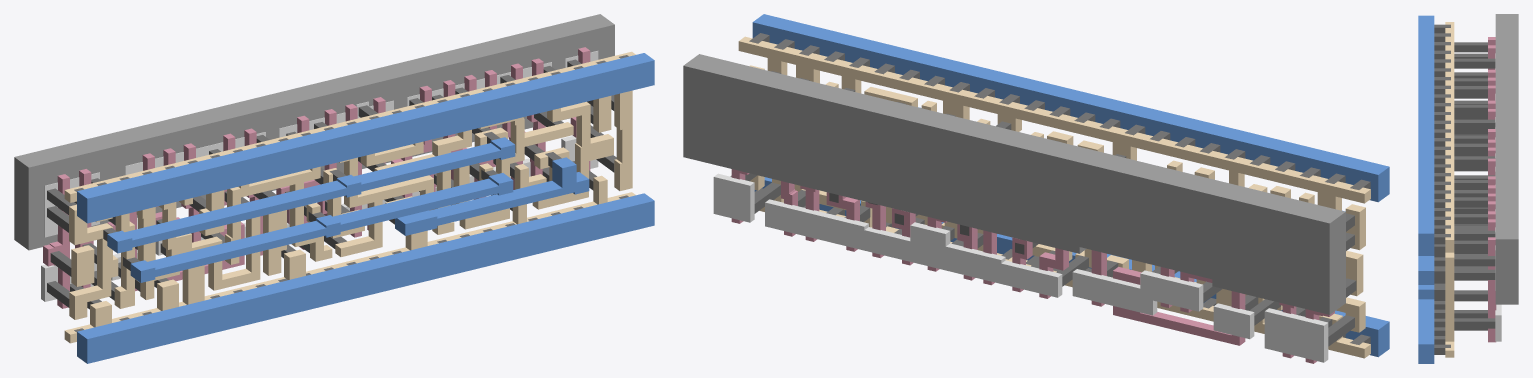
File: sky130_fd_sc_hd__sdfrtn_1.gds.gltf
3 renders of one model, left to right at view 1: azimuth 30°, elevation 25°; view 2: azimuth 150°, elevation 25°; view 3: azimuth 270°, elevation 25°, orthographic. The views are drawn at different scales.
Parts seen in each view (by area): view 1: sky130_fd_sc_hd__sdfrtn_1_met1, sky130_fd_sc_hd__sdfrtn_1_li1, sky130_fd_sc_hd__sdfrtn_1_nwell, sky130_fd_sc_hd__sdfrtn_1_poly, sky130_fd_sc_hd__sdfrtn_1_licon, sky130_fd_sc_hd__sdfrtn_1_diff, sky130_fd_sc_hd__sdfrtn_1_mcon; view 2: sky130_fd_sc_hd__sdfrtn_1_nwell, sky130_fd_sc_hd__sdfrtn_1_li1, sky130_fd_sc_hd__sdfrtn_1_diff, sky130_fd_sc_hd__sdfrtn_1_met1, sky130_fd_sc_hd__sdfrtn_1_poly, sky130_fd_sc_hd__sdfrtn_1_mcon, sky130_fd_sc_hd__sdfrtn_1_licon; view 3: sky130_fd_sc_hd__sdfrtn_1_licon, sky130_fd_sc_hd__sdfrtn_1_nwell, sky130_fd_sc_hd__sdfrtn_1_met1, sky130_fd_sc_hd__sdfrtn_1_mcon, sky130_fd_sc_hd__sdfrtn_1_li1, sky130_fd_sc_hd__sdfrtn_1_poly, sky130_fd_sc_hd__sdfrtn_1_diff.
Boxes of the visible parts, bbox=[...] form: sky130_fd_sc_hd__sdfrtn_1_met1: bbox=[77, 53, 654, 363]; sky130_fd_sc_hd__sdfrtn_1_li1: bbox=[64, 51, 635, 343]; sky130_fd_sc_hd__sdfrtn_1_nwell: bbox=[14, 14, 614, 250]; sky130_fd_sc_hd__sdfrtn_1_poly: bbox=[43, 47, 590, 308]; sky130_fd_sc_hd__sdfrtn_1_licon: bbox=[47, 59, 616, 309]; sky130_fd_sc_hd__sdfrtn_1_diff: bbox=[41, 51, 598, 301]; sky130_fd_sc_hd__sdfrtn_1_mcon: bbox=[74, 55, 628, 332]; sky130_fd_sc_hd__sdfrtn_1_nwell: bbox=[683, 54, 1345, 314]; sky130_fd_sc_hd__sdfrtn_1_li1: bbox=[738, 36, 1370, 358]; sky130_fd_sc_hd__sdfrtn_1_diff: bbox=[713, 173, 1328, 362]; sky130_fd_sc_hd__sdfrtn_1_met1: bbox=[752, 14, 1389, 357]; sky130_fd_sc_hd__sdfrtn_1_poly: bbox=[731, 169, 1334, 363]; sky130_fd_sc_hd__sdfrtn_1_mcon: bbox=[749, 33, 1370, 344]; sky130_fd_sc_hd__sdfrtn_1_licon: bbox=[730, 71, 1356, 346]; sky130_fd_sc_hd__sdfrtn_1_licon: bbox=[1454, 42, 1495, 330]; sky130_fd_sc_hd__sdfrtn_1_nwell: bbox=[1495, 14, 1518, 304]; sky130_fd_sc_hd__sdfrtn_1_met1: bbox=[1418, 15, 1434, 363]; sky130_fd_sc_hd__sdfrtn_1_mcon: bbox=[1434, 24, 1450, 354]; sky130_fd_sc_hd__sdfrtn_1_li1: bbox=[1445, 22, 1454, 357]; sky130_fd_sc_hd__sdfrtn_1_poly: bbox=[1488, 37, 1496, 342]; sky130_fd_sc_hd__sdfrtn_1_diff: bbox=[1495, 53, 1501, 341].
Bounding box in the file's own units: 11.88 × 3.2 × 2.24.
